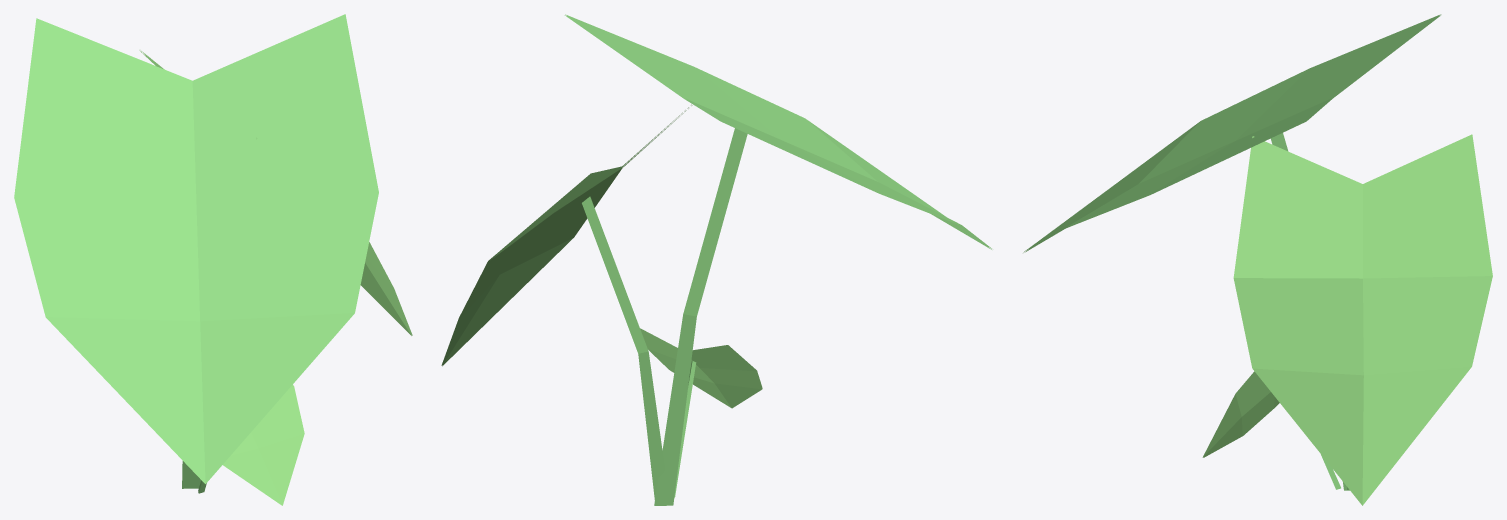
The model's file is Plant_c_TwoS_03.fbx.
3 views of the same model, side by side, from view 1: azimuth 30°, elevation 25°; view 2: azimuth 150°, elevation 25°; view 3: azimuth 270°, elevation 25° (orthographic). The views are drawn at different scales.
Visible parts, largest first — view 1: Plant_c_TwoS_03; view 2: Plant_c_TwoS_03; view 3: Plant_c_TwoS_03.
Boxes of the visible parts, bbox=[...] form: Plant_c_TwoS_03: bbox=[14, 14, 412, 505]; Plant_c_TwoS_03: bbox=[441, 14, 991, 505]; Plant_c_TwoS_03: bbox=[1023, 14, 1492, 505].
Bounding box in the file's own units: 53.74 × 51.93 × 52.05.
